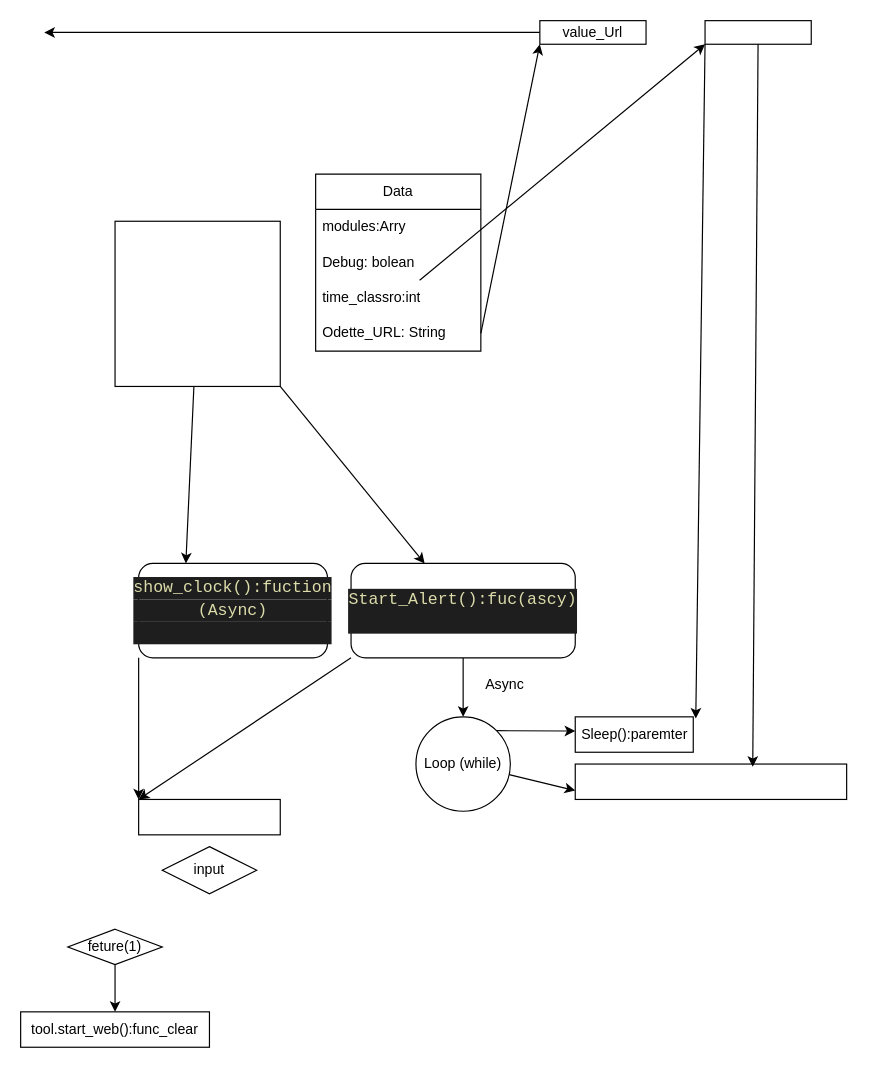
This 870x1068 diagram has some shape labels left out. Each missing label, with the centre of its shape:
"alert_to_to_assess_classroom" belongs at pixel 710 781.
"main (Start_Code_Runtime)" belongs at pixel 197 303.
"Start():func_main" belongs at pixel 208 816.
"value" belongs at pixel 757 31.
